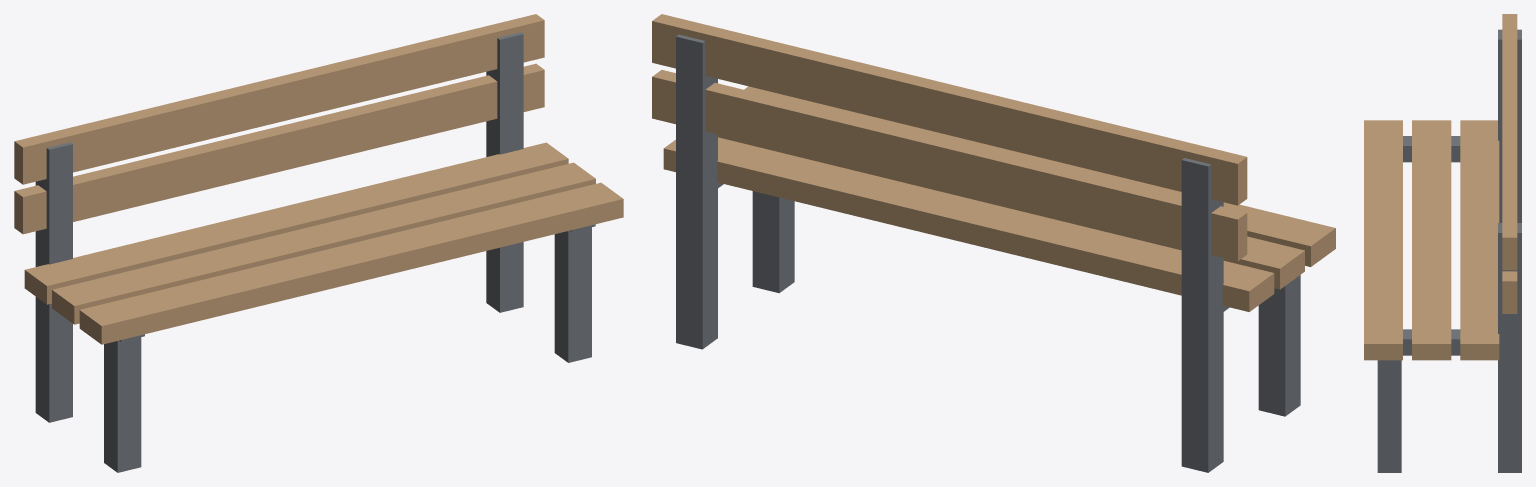
Rendered from prop_bench.glb.
3 views of the same model, side by side, from view 1: azimuth 30°, elevation 25°; view 2: azimuth 150°, elevation 25°; view 3: azimuth 270°, elevation 25° (orthographic). The views are drawn at different scales.
Parts seen in each view (by area): view 1: prop_bench; view 2: prop_bench; view 3: prop_bench.
Part boxes in pixels (x1=…): prop_bench: x1=14, y1=14, x2=623, y2=472; prop_bench: x1=652, y1=14, x2=1335, y2=472; prop_bench: x1=1364, y1=14, x2=1521, y2=472.
Bounding box in the file's own units: 1.76 × 0.9 × 0.525.
